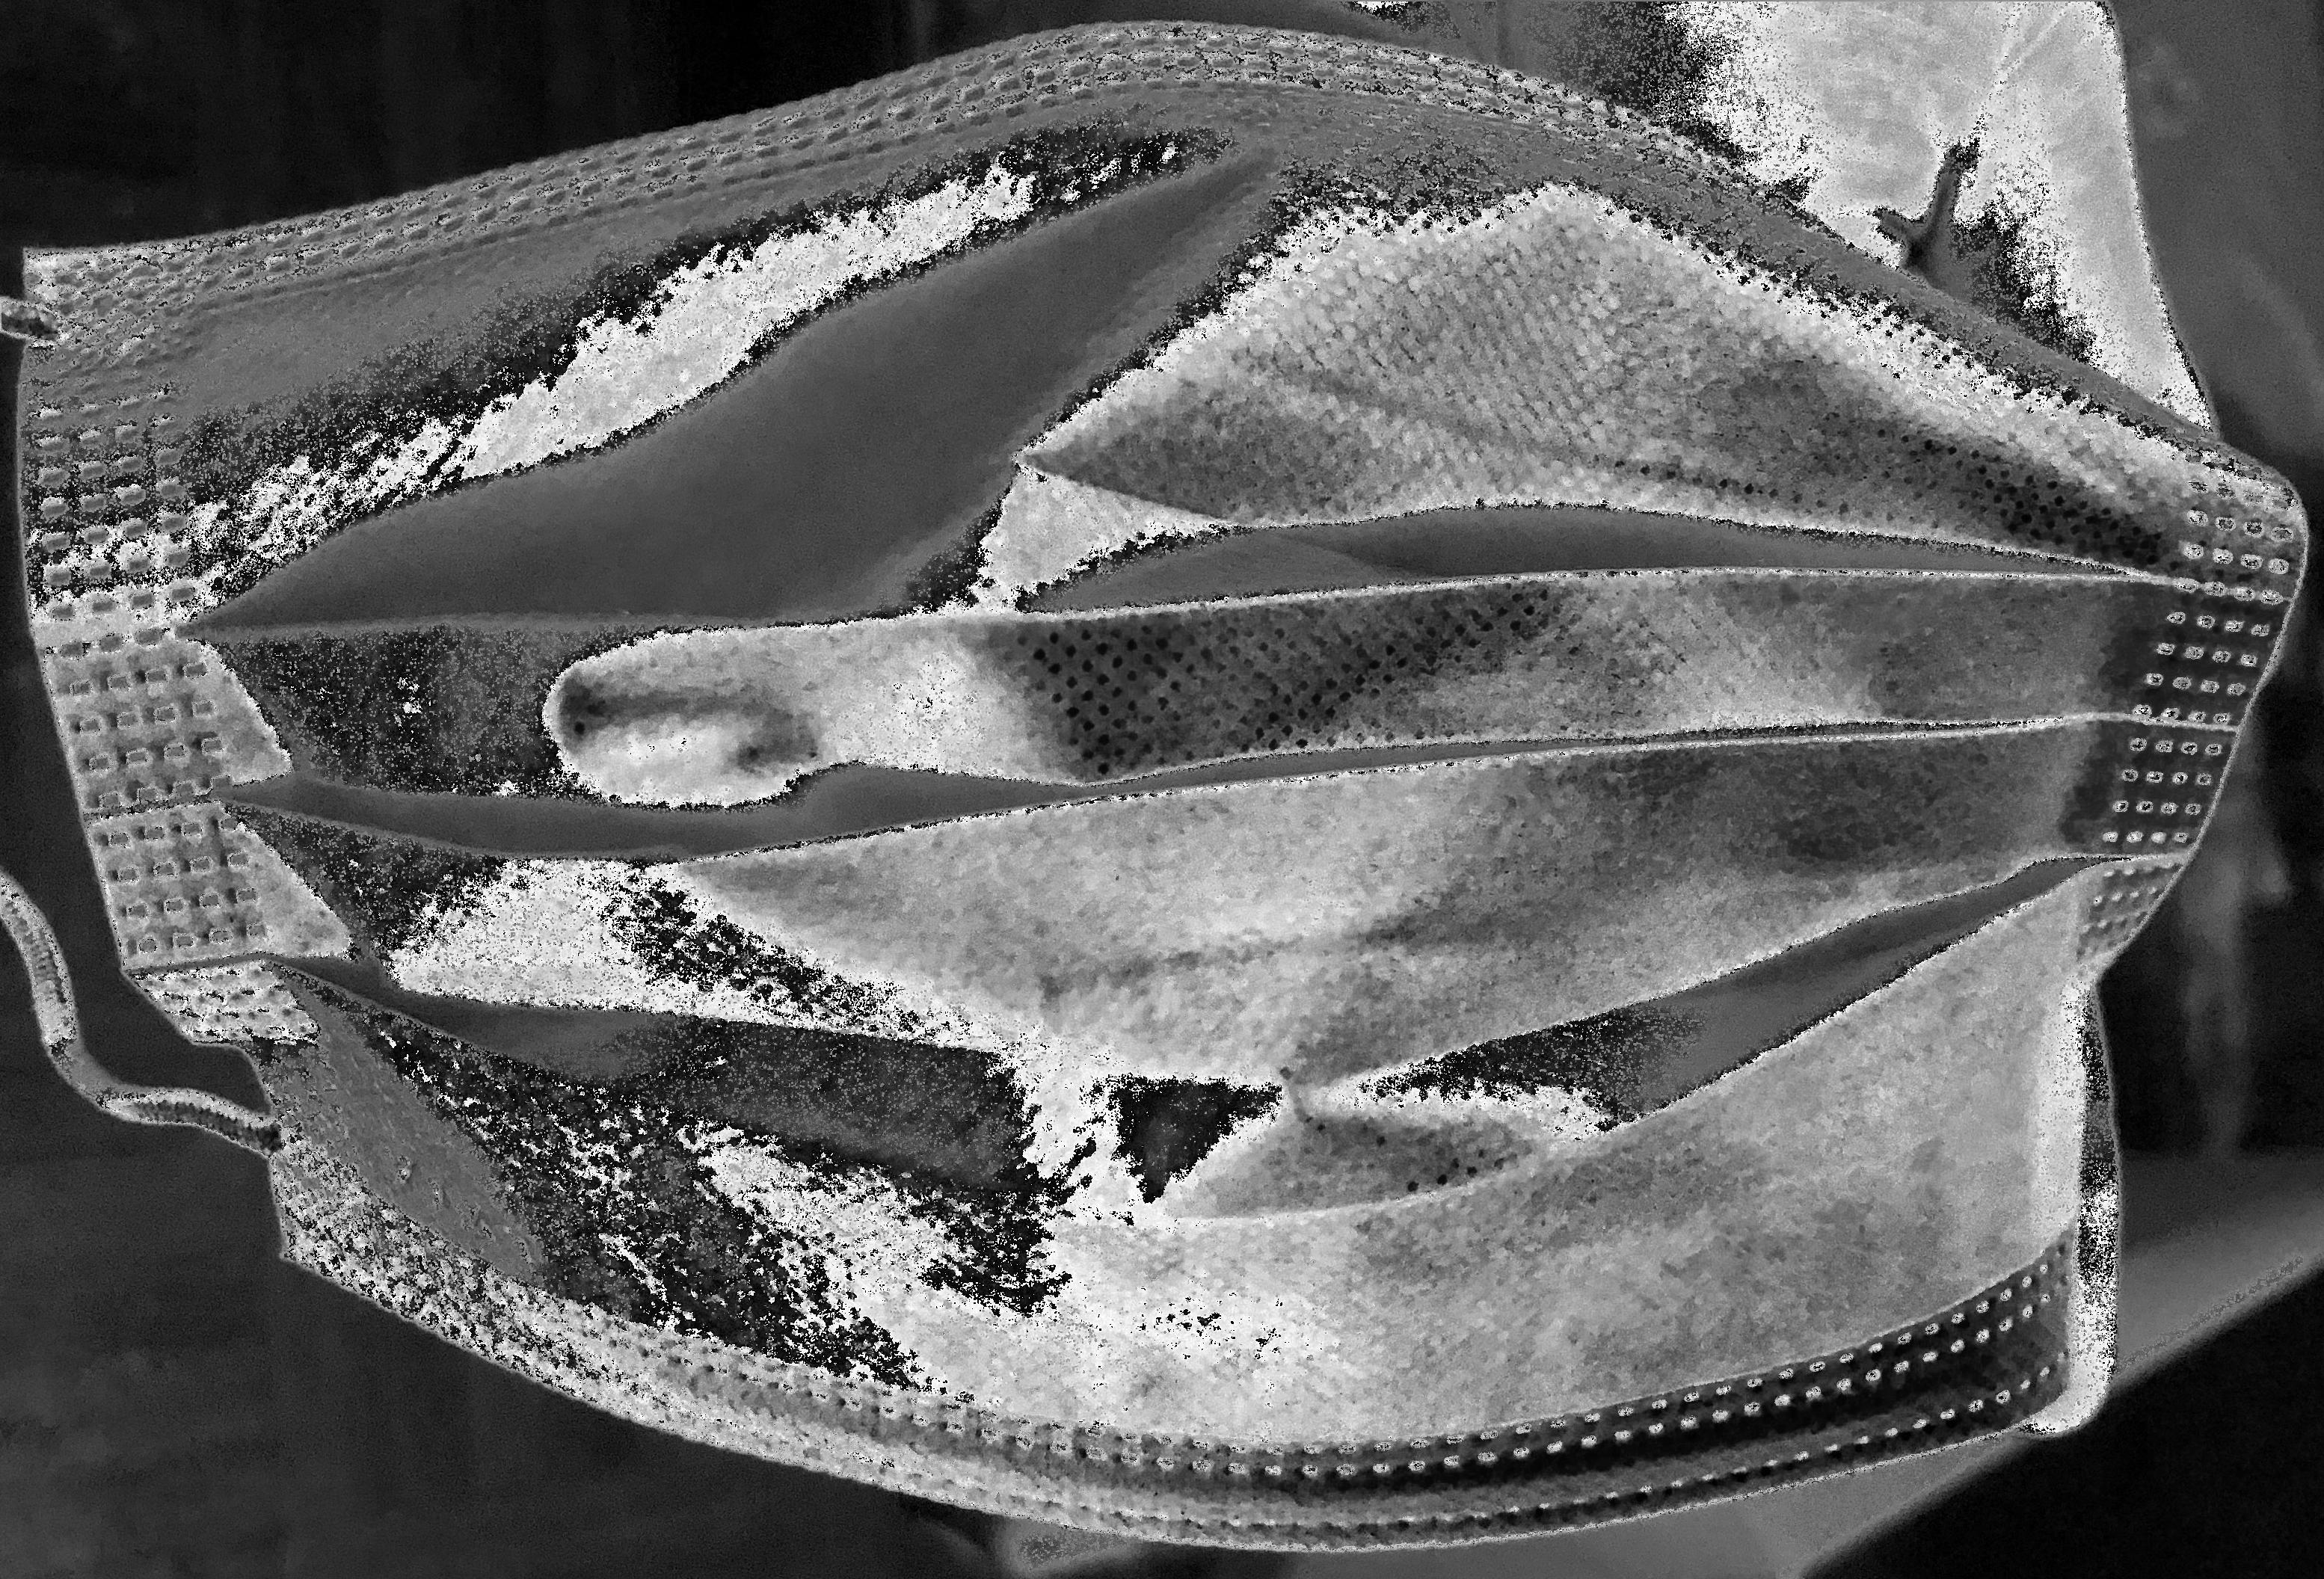High GSM: (814, 419, 2118, 1001), (731, 1096, 1366, 1438), (227, 418, 747, 784)
